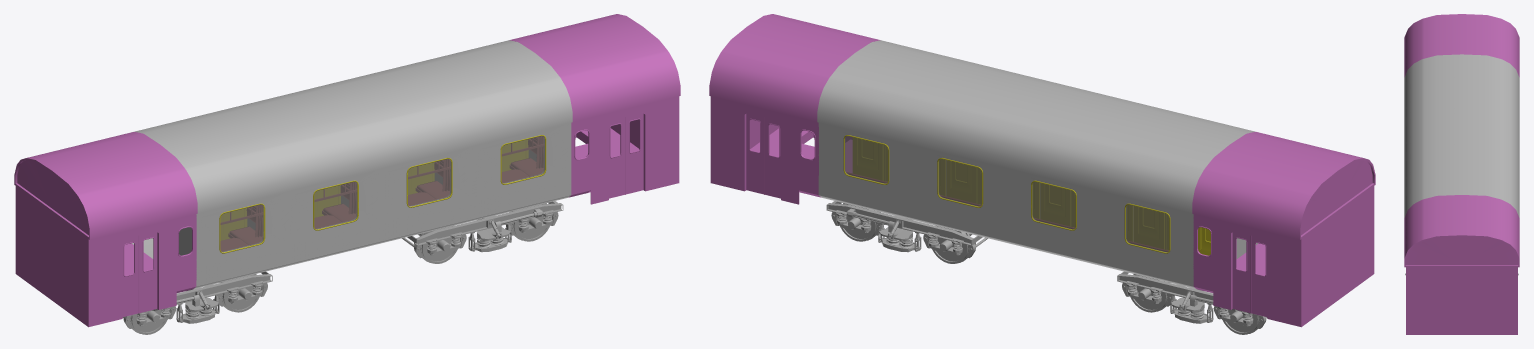
File: full.fbx
3 renders of one model, left to right at view 1: azimuth 30°, elevation 25°; view 2: azimuth 150°, elevation 25°; view 3: azimuth 270°, elevation 25°, orthographic. The views are drawn at different scales.
Visible parts, largest first — view 1: part01 (×4), TrainBody01, Wheels, WindowGlass01 (×4), DoorFrame01 (×4); view 2: part01 (×4), TrainBody01, Wheels, WindowGlass02 (×4), DoorFrame01 (×4); view 3: TrainBody01, part01 (×4).
Part boxes in pixels (bbox=[...]): part01 (×4): bbox=[132, 40, 572, 288]; TrainBody01: bbox=[14, 14, 680, 327]; Wheels: bbox=[122, 201, 563, 334]; WindowGlass01 (×4): bbox=[220, 136, 544, 252]; DoorFrame01 (×4): bbox=[220, 139, 528, 240]; part01 (×4): bbox=[817, 40, 1255, 288]; TrainBody01: bbox=[709, 14, 1375, 327]; Wheels: bbox=[826, 201, 1267, 334]; WindowGlass02 (×4): bbox=[845, 136, 1169, 252]; DoorFrame01 (×4): bbox=[853, 137, 1210, 255]; TrainBody01: bbox=[1404, 14, 1519, 334]; part01 (×4): bbox=[1404, 54, 1519, 217].
Size of the model in its own units: 2303 by 613 by 509.
